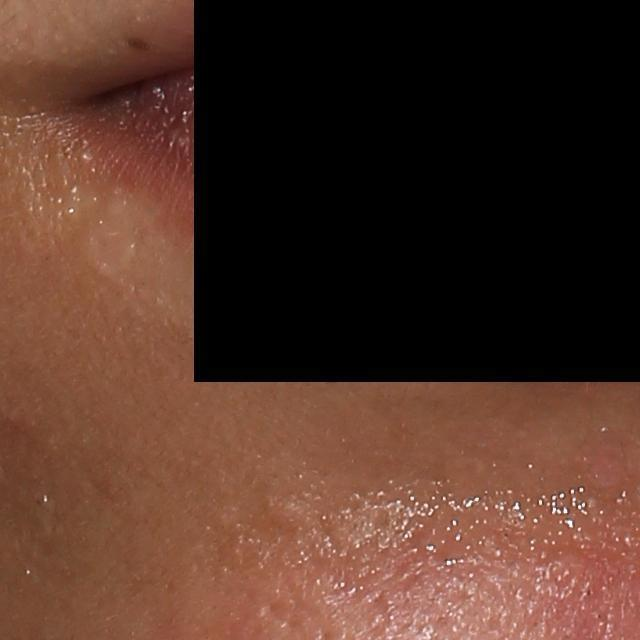atrophic_scar: (259, 600, 296, 630)
nevus: (125, 35, 152, 51)
